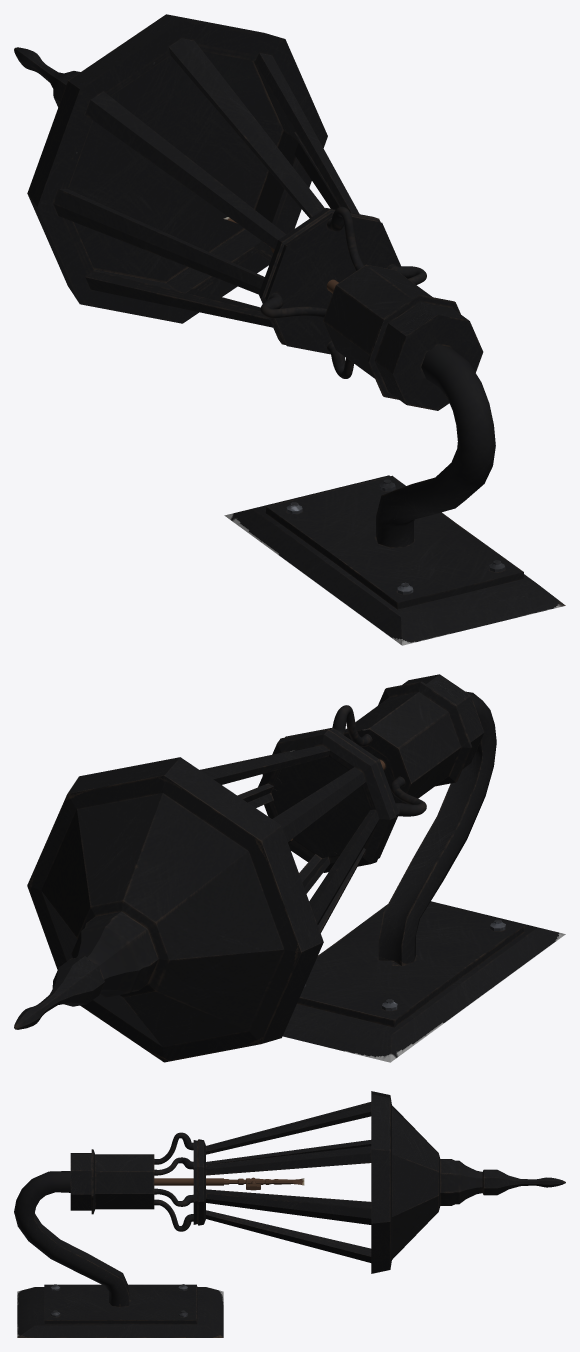
The model's file is Lantern.fbx.
The picture shows the model from 3 angles, top to bottom: view 1: azimuth 30°, elevation 25°; view 2: azimuth 150°, elevation 25°; view 3: azimuth 270°, elevation 25°; orthographic projection. The views are drawn at different scales.
Parts seen in each view (by area): view 1: Wall Gas Lamp.001; view 2: Wall Gas Lamp.001; view 3: Wall Gas Lamp.001.
Part boxes in pixels (x1=…): Wall Gas Lamp.001: x1=14, y1=14, x2=565, y2=645; Wall Gas Lamp.001: x1=14, y1=674, x2=565, y2=1062; Wall Gas Lamp.001: x1=14, y1=1091, x2=565, y2=1337.
Bounding box in the file's own units: 14.09 × 17.69 × 39.95.
